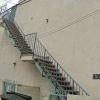stairs: (0, 25, 77, 100)
